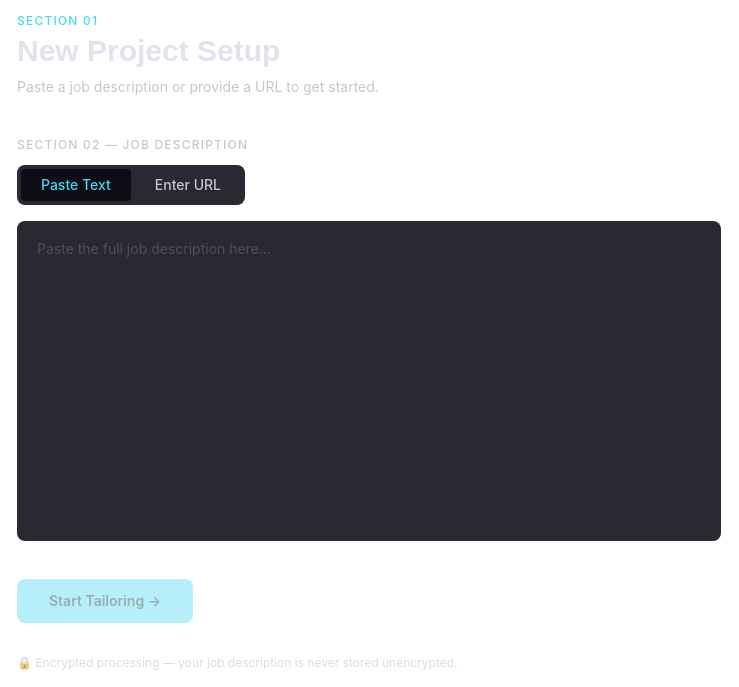
Test: NewProjectPage — /dashboard/new › submit button is disabled while loading
Type "Some job description text" into the text box with placeholder "Paste the full job description here…" at coordinates (369, 381), box left=17, top=221, right=721, bottom=541
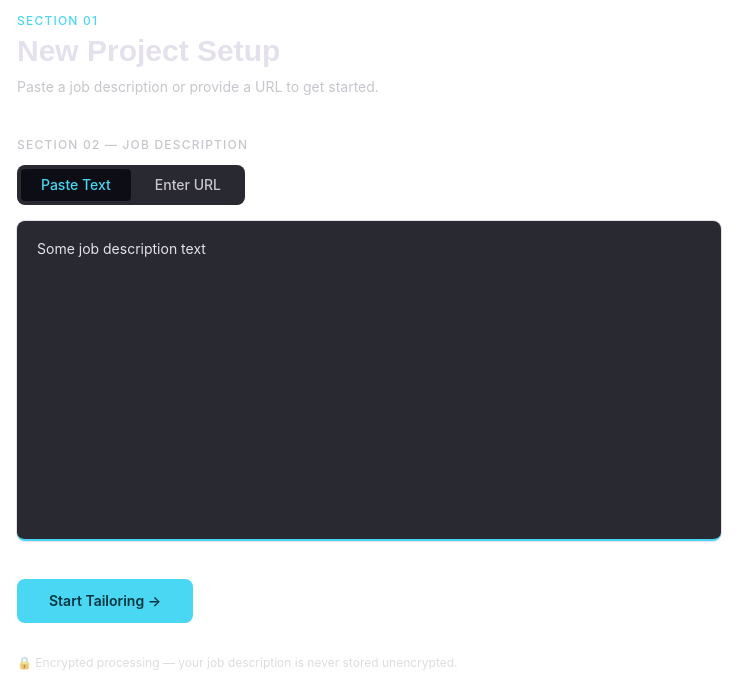
Click the button "Start Tailoring →" at coordinates (105, 601), box left=17, top=579, right=193, bottom=623
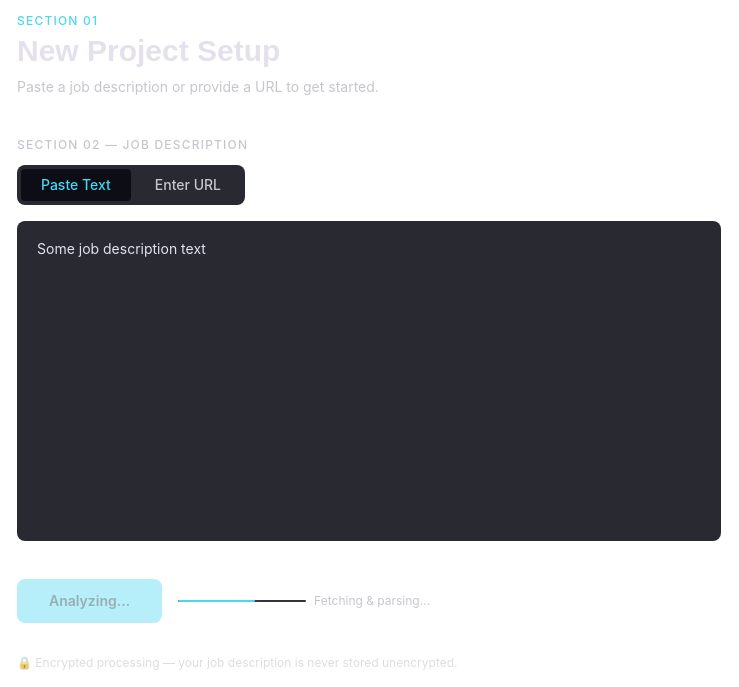
Expected: the button "Analyzing…" is disabled, left=17, top=579, right=162, bottom=623
